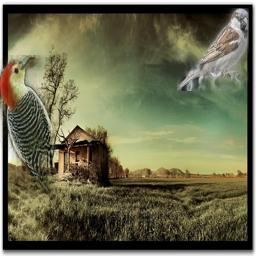Sparrow: (177, 8, 249, 91)
Woodpecker: (0, 55, 79, 219)
